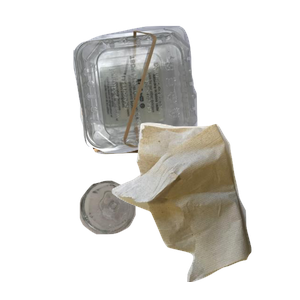cardboard: (77, 79, 251, 227)
glass: (77, 178, 205, 300)
plastic: (71, 23, 300, 169)
trash: (109, 120, 300, 300)
